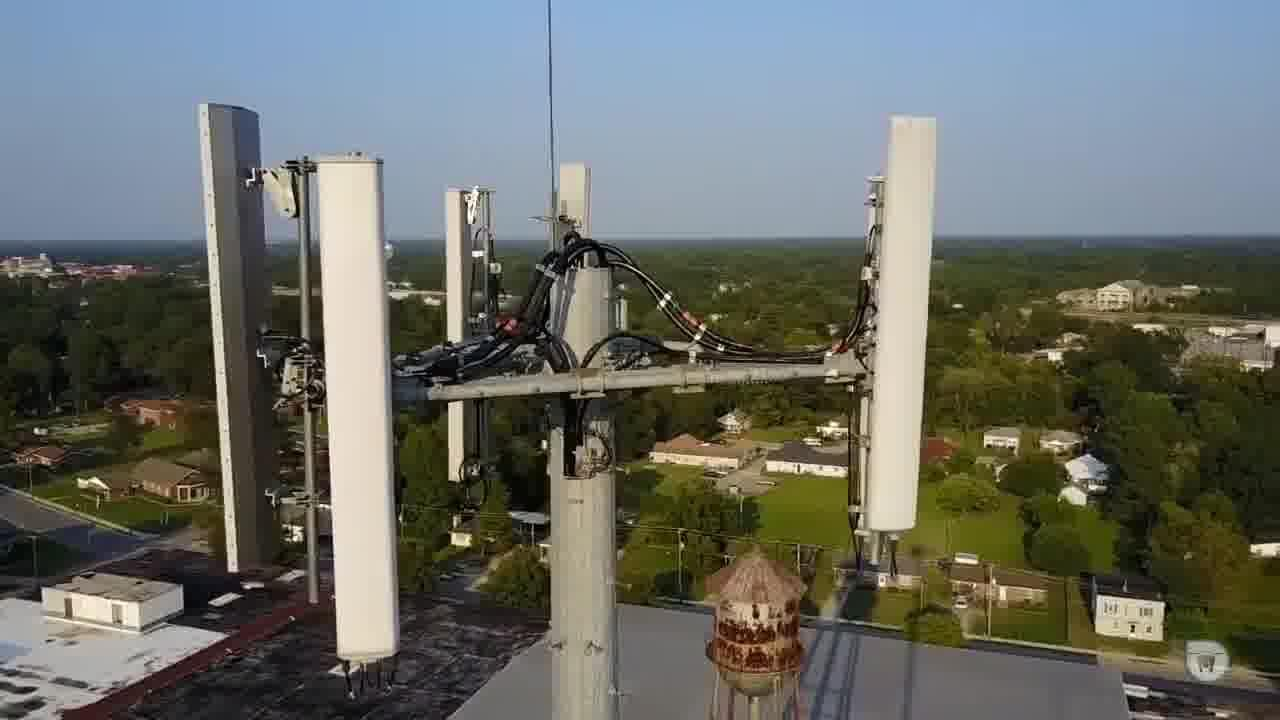antenna: (295, 152, 415, 661), (175, 101, 287, 578), (854, 103, 952, 548), (437, 177, 490, 502), (547, 161, 595, 279)
